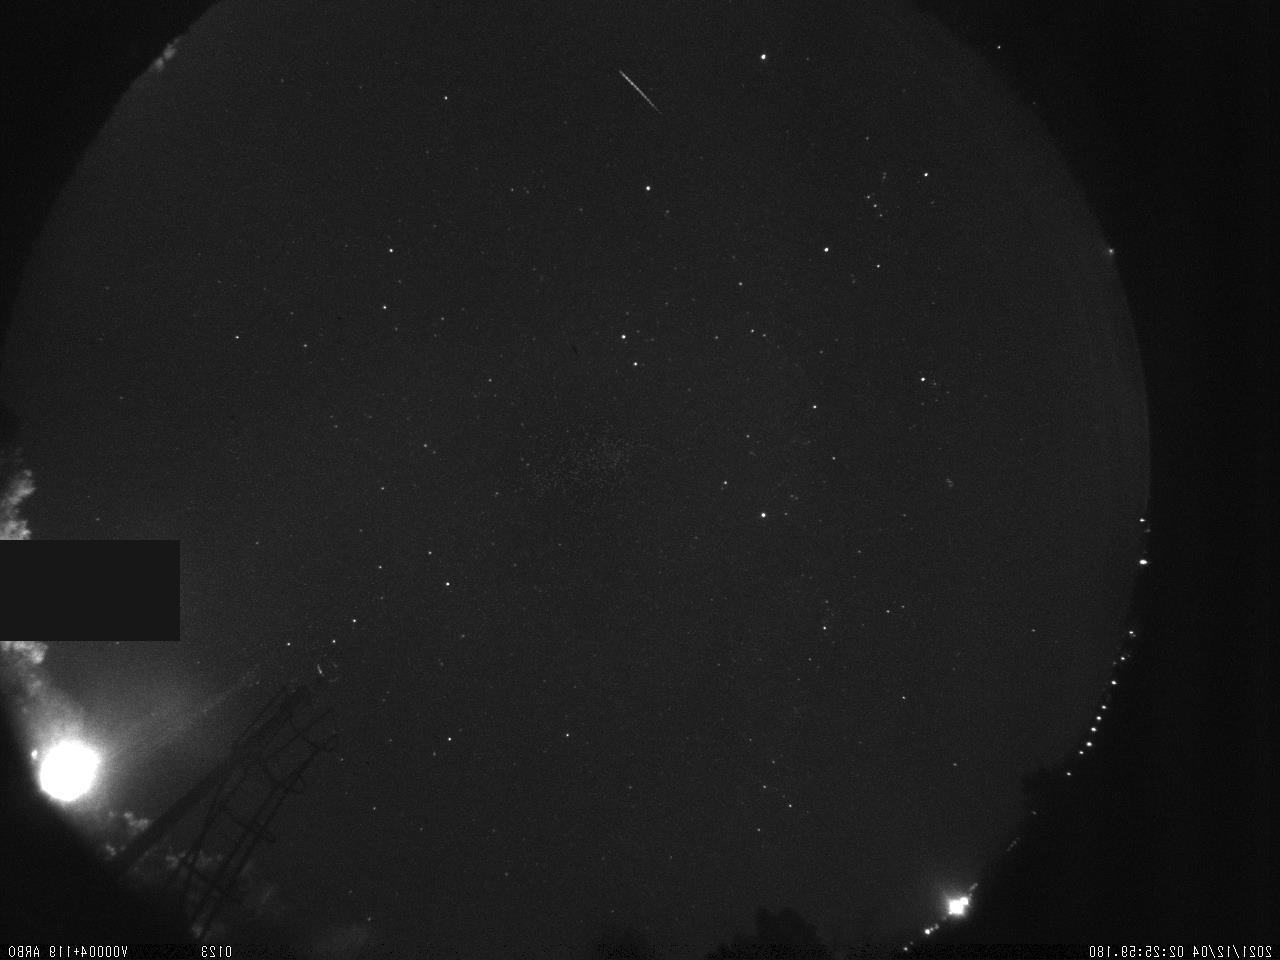meteor: (601, 59, 682, 132)
